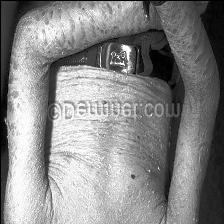Non-Cancerous Skin Condition: (62, 87, 170, 224), (5, 17, 51, 224), (65, 0, 141, 44), (190, 11, 214, 104), (165, 9, 179, 51)
